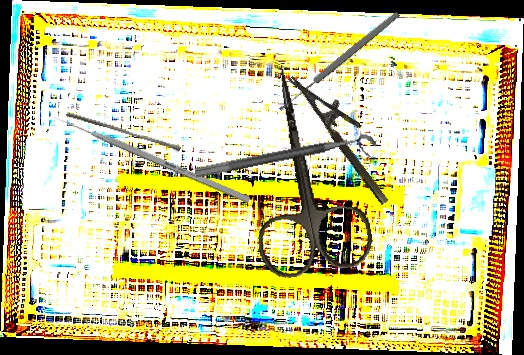Fixation Ring: (194, 131, 379, 194)
Iris Scissors: (227, 54, 377, 283)
Needle Holder: (287, 60, 407, 207)
Pusher: (50, 112, 252, 204), (64, 111, 183, 152)
Surgical Spoon: (277, 10, 401, 113)
